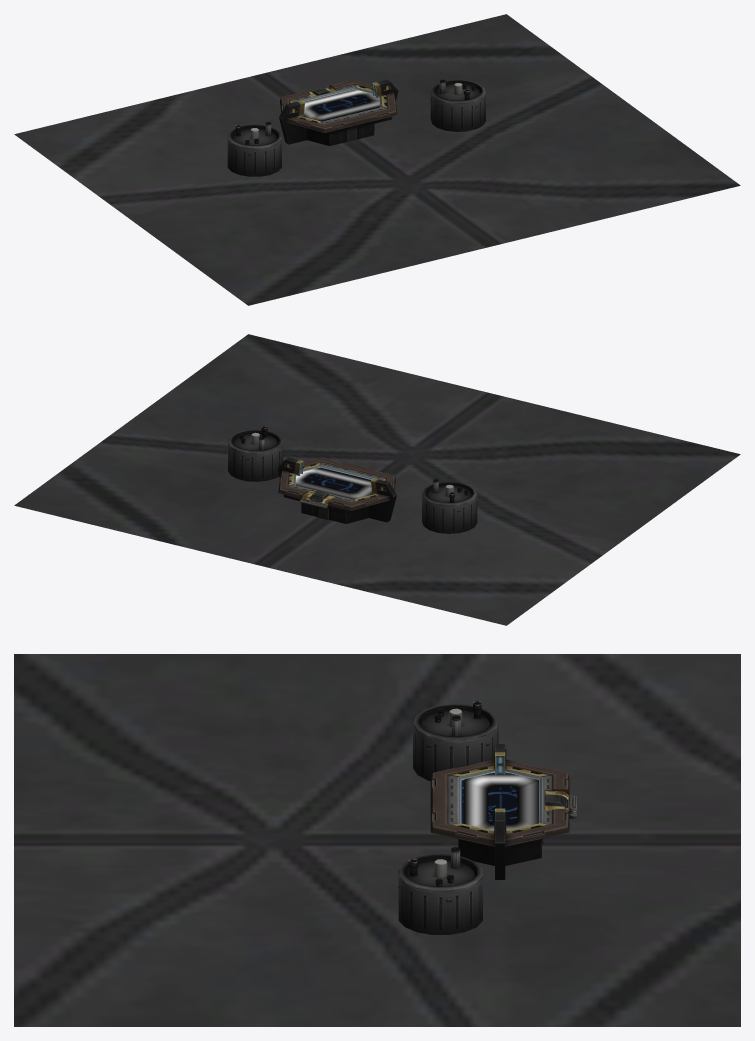
The model's file is env_campaign_holo_table_ship_pre.glb.
3 renders of one model, top to bottom at view 1: azimuth 30°, elevation 25°; view 2: azimuth 150°, elevation 25°; view 3: azimuth 270°, elevation 25°, orthographic. The views are drawn at different scales.
Visible parts, largest first — view 1: cantina_floor_mesh, homeship_holotable_base_mesh, tat_cantina_table_mesh (6), tat_cantina_table_mesh (5), vfx_holotable_glow_mesh_01, homeship_holotable_top_mesh; view 2: cantina_floor_mesh, homeship_holotable_base_mesh, tat_cantina_table_mesh (6), tat_cantina_table_mesh (5), vfx_holotable_glow_mesh_01, homeship_holotable_top_mesh; view 3: cantina_floor_mesh, homeship_holotable_base_mesh, tat_cantina_table_mesh (5), tat_cantina_table_mesh (6), vfx_holotable_glow_mesh_01, homeship_holotable_top_mesh.
Part boxes in pixels (<box>): cantina_floor_mesh: <box>14,14,740,305</box>; homeship_holotable_base_mesh: <box>279,79,398,145</box>; tat_cantina_table_mesh (6): <box>227,122,281,176</box>; tat_cantina_table_mesh (5): <box>430,79,485,131</box>; vfx_holotable_glow_mesh_01: <box>302,89,386,121</box>; homeship_holotable_top_mesh: <box>313,95,379,121</box>; cantina_floor_mesh: <box>14,334,740,625</box>; homeship_holotable_base_mesh: <box>277,457,396,523</box>; tat_cantina_table_mesh (6): <box>422,479,477,533</box>; tat_cantina_table_mesh (5): <box>228,426,283,481</box>; vfx_holotable_glow_mesh_01: <box>288,468,373,499</box>; homeship_holotable_top_mesh: <box>305,467,370,491</box>; cantina_floor_mesh: <box>14,654,740,1026</box>; homeship_holotable_base_mesh: <box>430,744,576,879</box>; tat_cantina_table_mesh (5): <box>398,847,482,934</box>; tat_cantina_table_mesh (6): <box>413,701,498,780</box>; vfx_holotable_glow_mesh_01: <box>464,773,538,830</box>; homeship_holotable_top_mesh: <box>461,772,517,823</box>.
Bounding box in the file's own units: 87.56 × 6.92 × 72.15.
Materials: 5 (5 with a texture image).
